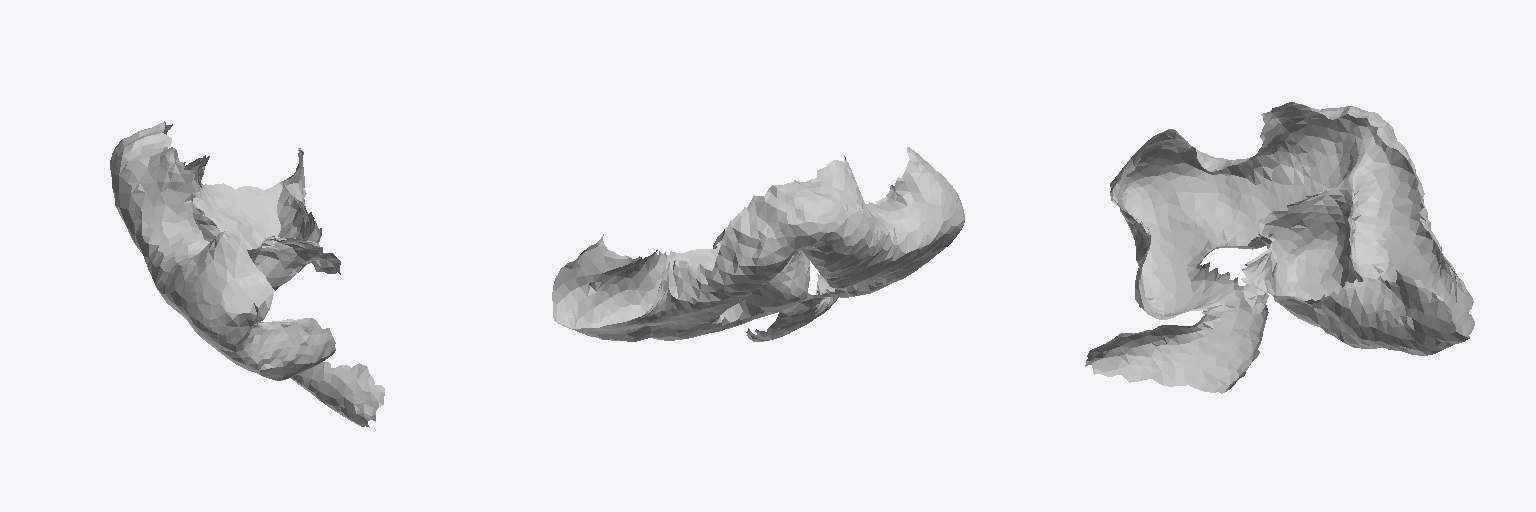
The model's file is R_occipital_middle.obj.
The picture shows the model from 3 angles: view 1: azimuth 30°, elevation 25°; view 2: azimuth 150°, elevation 25°; view 3: azimuth 270°, elevation 25°; orthographic projection.
Visible parts, largest first — view 1: R_occipital_middle_L_occipital_middle; view 2: R_occipital_middle_L_occipital_middle; view 3: R_occipital_middle_L_occipital_middle.
Boxes of the visible parts, box(x1,y1,x2,y2) form: R_occipital_middle_L_occipital_middle: box(110, 121, 384, 427); R_occipital_middle_L_occipital_middle: box(552, 147, 964, 341); R_occipital_middle_L_occipital_middle: box(1085, 102, 1474, 393).
Size of the model in its own units: 115 by 101 by 150.